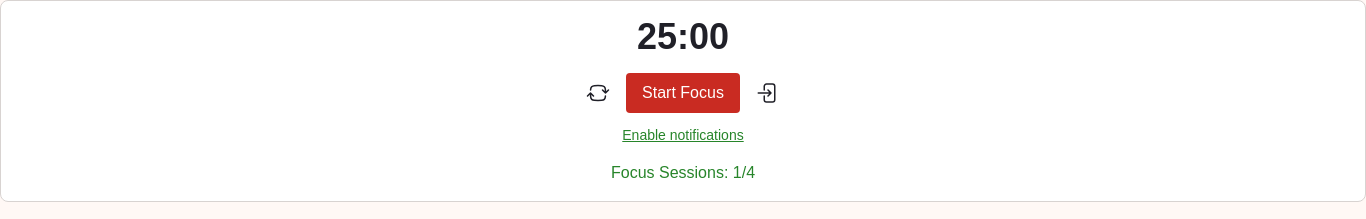
Test case: Timer Component › pauses timer on button click when running
Click the button "Start Focus" at (683, 93), box left=626, top=73, right=740, bottom=113
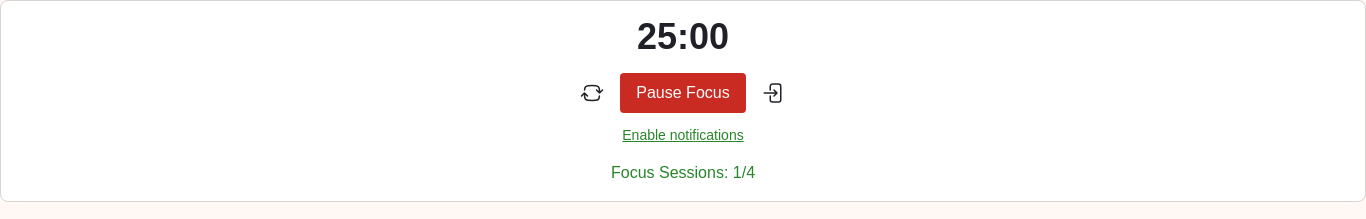
Click the button named "Start Focus" at (683, 93), box left=620, top=73, right=746, bottom=113
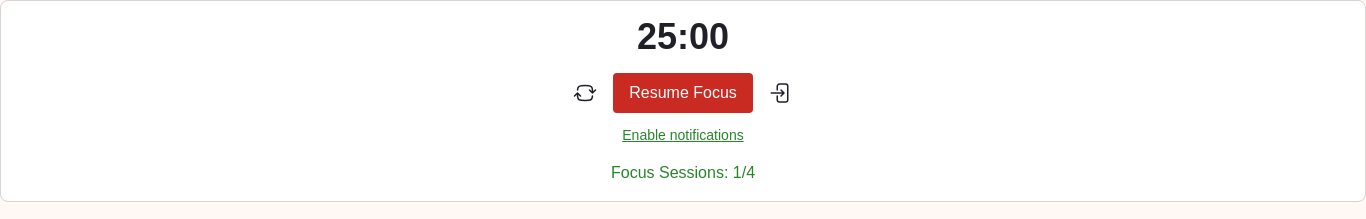
Result: the button named "Start Focus" reads "Resume Focus" at left=613, top=73, right=753, bottom=113
